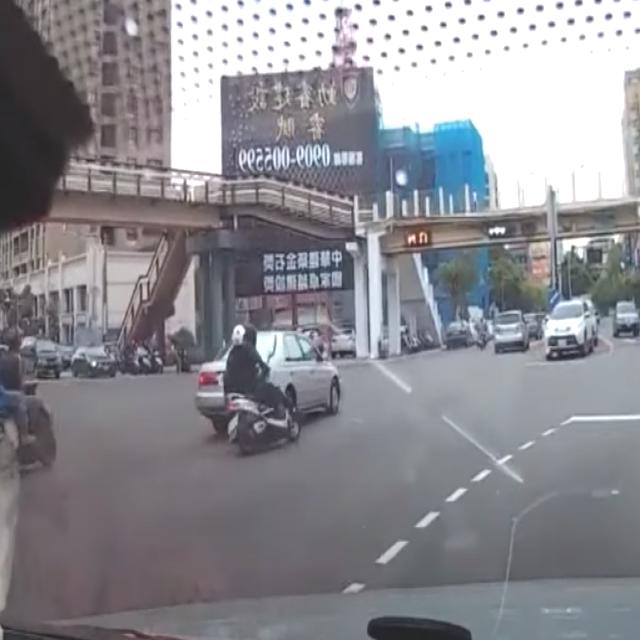accident: (195, 327, 342, 457)
non-accident: (16, 335, 120, 379), (544, 294, 598, 364), (494, 309, 540, 353), (446, 307, 490, 349)
